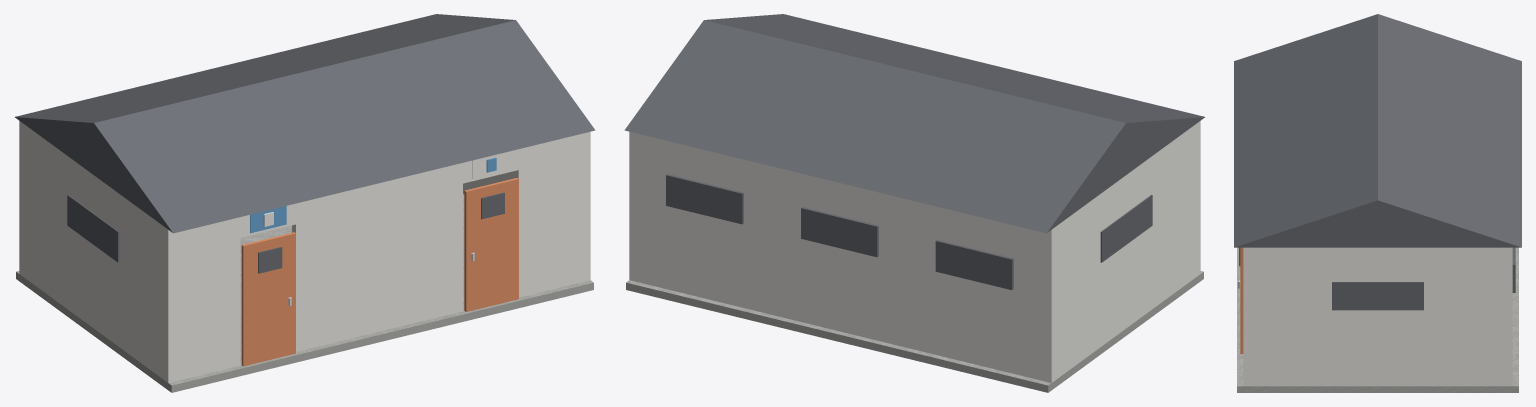
The model's file is caravan-park-and-campsite-shower-and-toilet-block-430a4fe0__35370.glb.
3 views of the same model, side by side, from view 1: azimuth 30°, elevation 25°; view 2: azimuth 150°, elevation 25°; view 3: azimuth 270°, elevation 25° (orthographic). The views are drawn at different scales.
Visible parts, largest first — view 1: shower-and-toilet-block-charcoal, shower-and-toilet-block-shell, shower-and-toilet-block-hard, door-shower/flame, door-toilet/flame, shower-and-toilet-block-azure, door-shower/charcoal, door-toilet/charcoal; view 2: shower-and-toilet-block-charcoal, shower-and-toilet-block-shell, shower-and-toilet-block-hard; view 3: shower-and-toilet-block-charcoal, shower-and-toilet-block-shell, shower-and-toilet-block-hard, door-toilet/flame.
Part boxes in pixels (box(x1,y1,x2,y2)): shower-and-toilet-block-charcoal: box(15, 14, 595, 262); shower-and-toilet-block-shell: box(19, 121, 590, 382); shower-and-toilet-block-hard: box(16, 194, 593, 392); door-shower/flame: box(241, 232, 295, 366); door-toilet/flame: box(464, 178, 518, 311); shower-and-toilet-block-azure: box(250, 157, 496, 233); door-shower/charcoal: box(258, 247, 282, 273); door-toilet/charcoal: box(481, 192, 504, 219); shower-and-toilet-block-charcoal: box(624, 14, 1204, 290); shower-and-toilet-block-shell: box(629, 121, 1200, 382); shower-and-toilet-block-hard: box(626, 271, 1203, 392); shower-and-toilet-block-charcoal: box(1234, 14, 1521, 310); shower-and-toilet-block-shell: box(1243, 247, 1512, 386); shower-and-toilet-block-hard: box(1237, 247, 1518, 392); door-toilet/flame: box(1240, 247, 1243, 353).
Size of the model in its own units: 7.24 by 3.47 by 4.7.
6 materials, 1 textured.
